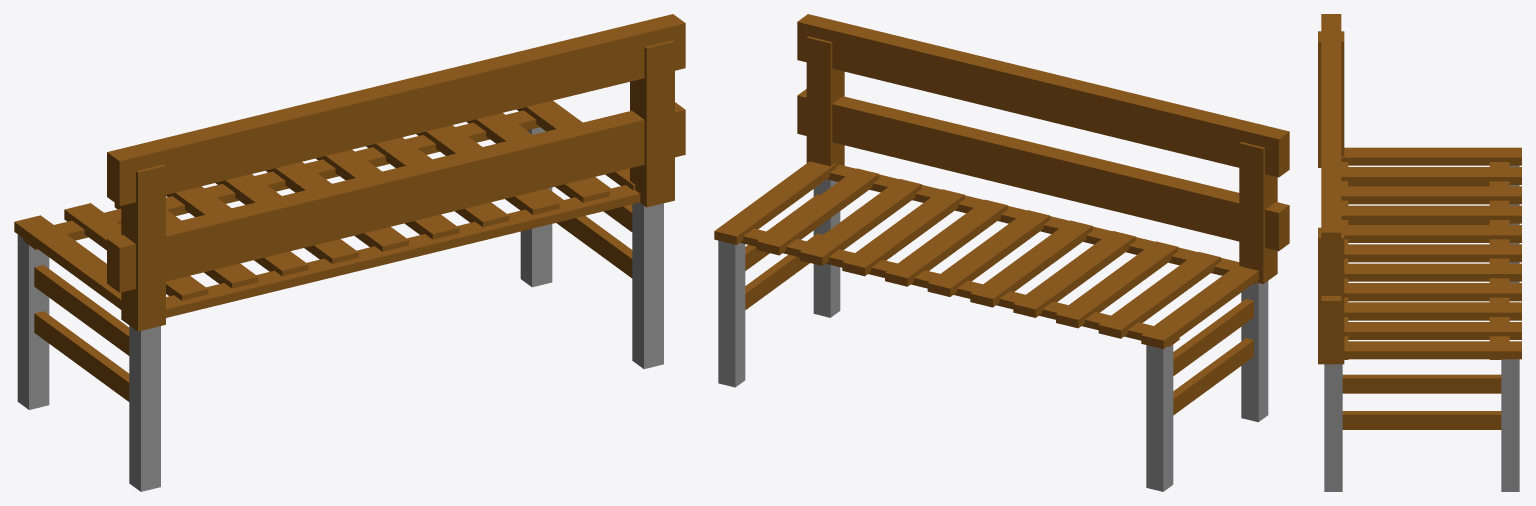
File: bench.fbx
The picture shows the model from 3 angles, left to right: view 1: azimuth 30°, elevation 25°; view 2: azimuth 150°, elevation 25°; view 3: azimuth 270°, elevation 25°; orthographic projection. The views are drawn at different scales.
Parts seen in each view (by area): view 1: bench; view 2: bench; view 3: bench.
Part boxes in pixels (x1,y1,x2,y2): bench: [14, 14, 685, 491]; bench: [714, 14, 1289, 491]; bench: [1318, 14, 1521, 491].
Size of the model in its own units: 505 by 288 by 199.
